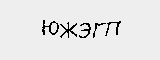Г: (92, 18, 105, 39)
Ж: (58, 19, 78, 40)
П: (105, 17, 122, 39)
Э: (78, 18, 92, 40)
Ю: (37, 18, 59, 38)
